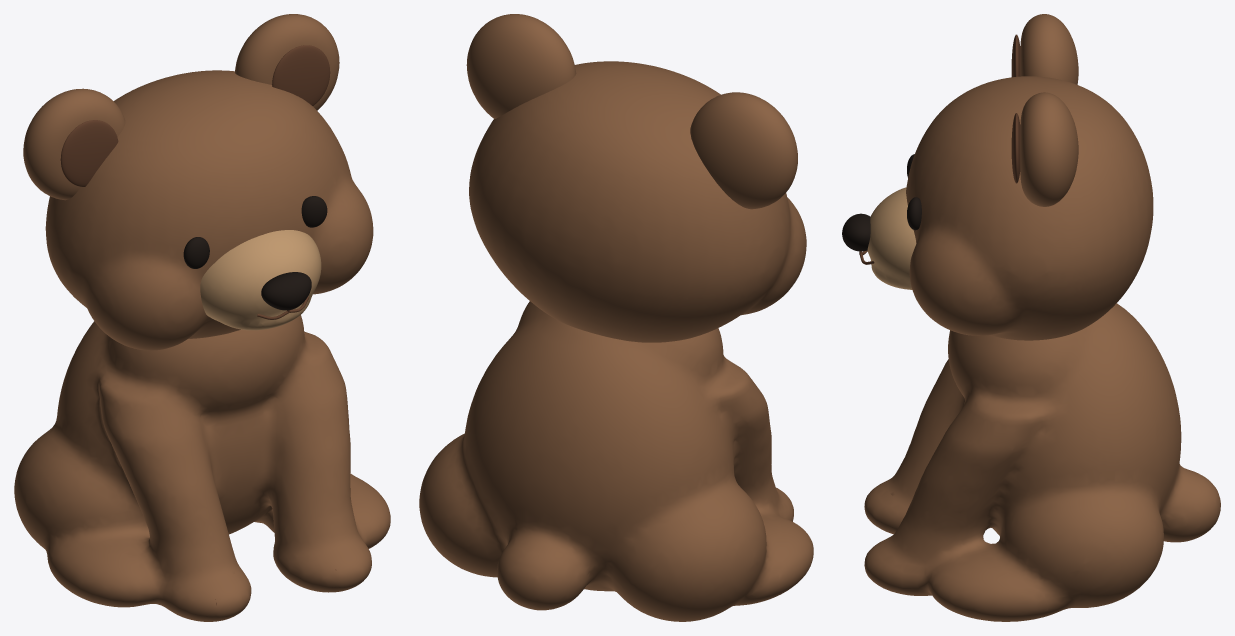
File: bear-cub.glb
3 renders of one model, left to right at view 1: azimuth 30°, elevation 25°; view 2: azimuth 150°, elevation 25°; view 3: azimuth 270°, elevation 25°, orthographic. The views are drawn at different scales.
Parts seen in each view (by area): view 1: Chestnut brown coat, Warm muzzle, Ear and paw crease, Espresso eyes and nose; view 2: Chestnut brown coat; view 3: Chestnut brown coat, Warm muzzle, Espresso eyes and nose, Ear and paw crease.
Part boxes in pixels (x1,y1,x2,y2): Chestnut brown coat: [14, 14, 390, 621]; Warm muzzle: [200, 230, 321, 330]; Ear and paw crease: [60, 45, 336, 605]; Espresso eyes and nose: [183, 196, 327, 310]; Chestnut brown coat: [419, 14, 813, 621]; Chestnut brown coat: [864, 14, 1220, 621]; Warm muzzle: [867, 187, 916, 289]; Espresso eyes and nose: [842, 154, 921, 251]; Ear and paw crease: [859, 34, 1020, 264].
Bounding box in the file's own units: 1.37 × 2.04 × 1.38.
